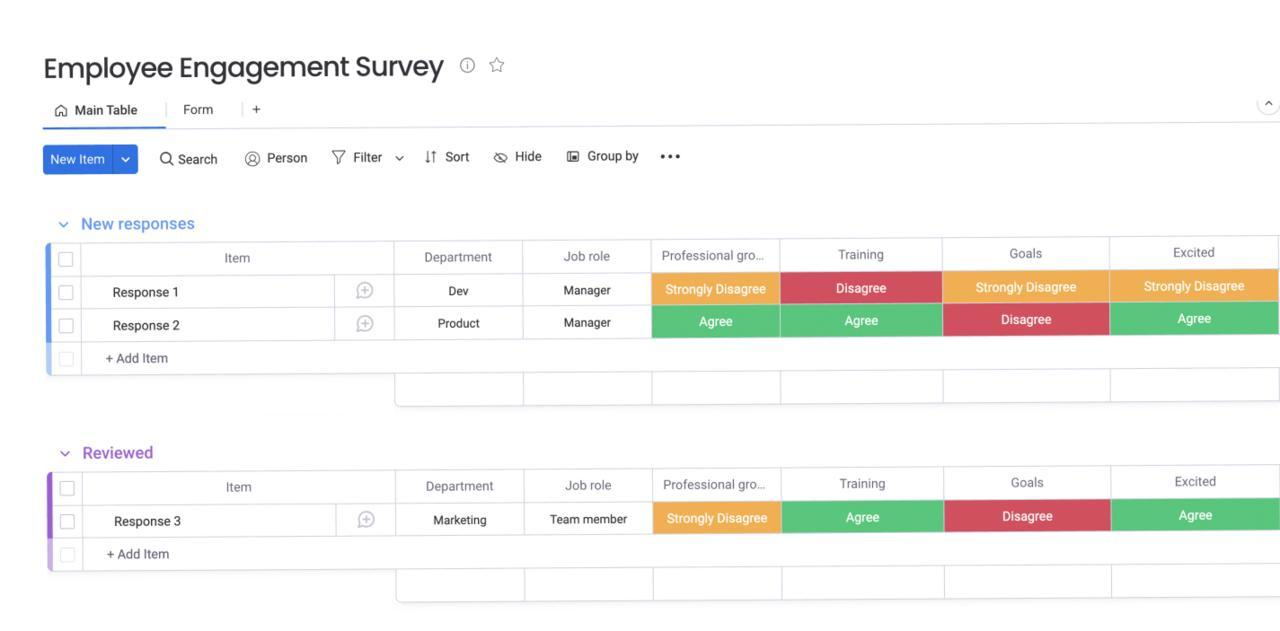checkbox: (58, 351, 78, 372), (58, 284, 76, 303), (58, 319, 77, 336), (58, 251, 76, 268), (60, 547, 78, 564), (60, 481, 76, 498), (60, 515, 76, 531)
dropdown: (53, 214, 201, 238), (43, 145, 139, 175), (56, 442, 161, 466)
icon: (656, 147, 688, 168), (157, 147, 177, 169), (244, 151, 264, 172), (491, 149, 512, 168), (330, 149, 350, 168), (562, 147, 582, 166), (489, 57, 509, 76), (424, 146, 441, 168), (460, 59, 477, 75), (55, 103, 70, 121), (391, 153, 410, 166), (254, 105, 261, 116)
label: (74, 104, 142, 120), (587, 149, 642, 166), (267, 149, 308, 170), (177, 152, 225, 169), (353, 151, 386, 168), (180, 103, 217, 118), (444, 147, 470, 166), (516, 150, 544, 165)
table: (46, 237, 1280, 377), (48, 464, 1280, 574)
